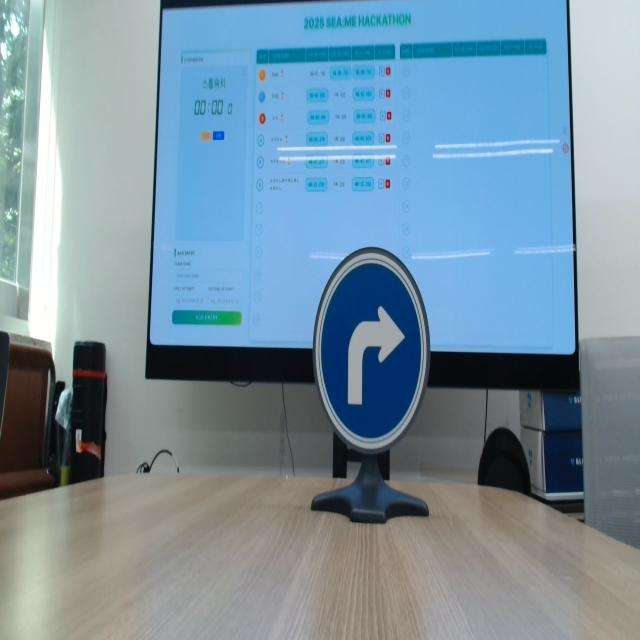right_dierection: (308, 222, 442, 453)
